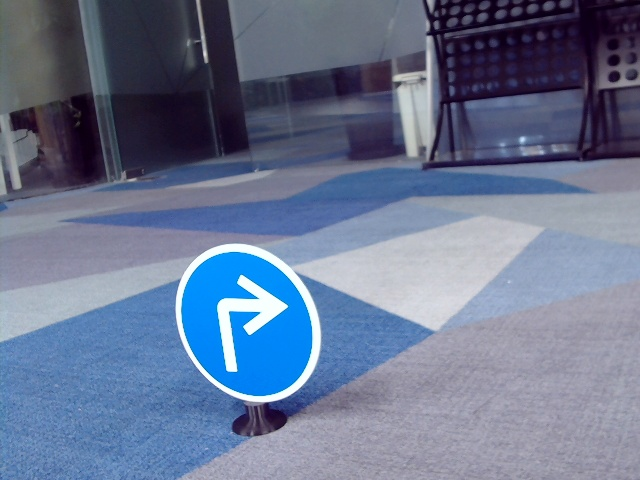turn_right: (209, 270, 290, 376)
